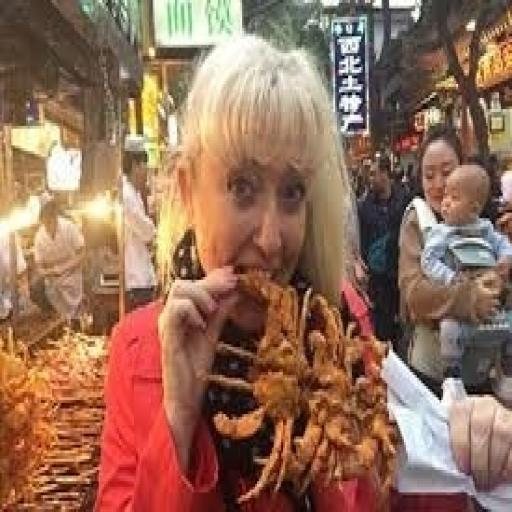eating: (92, 31, 508, 509)
